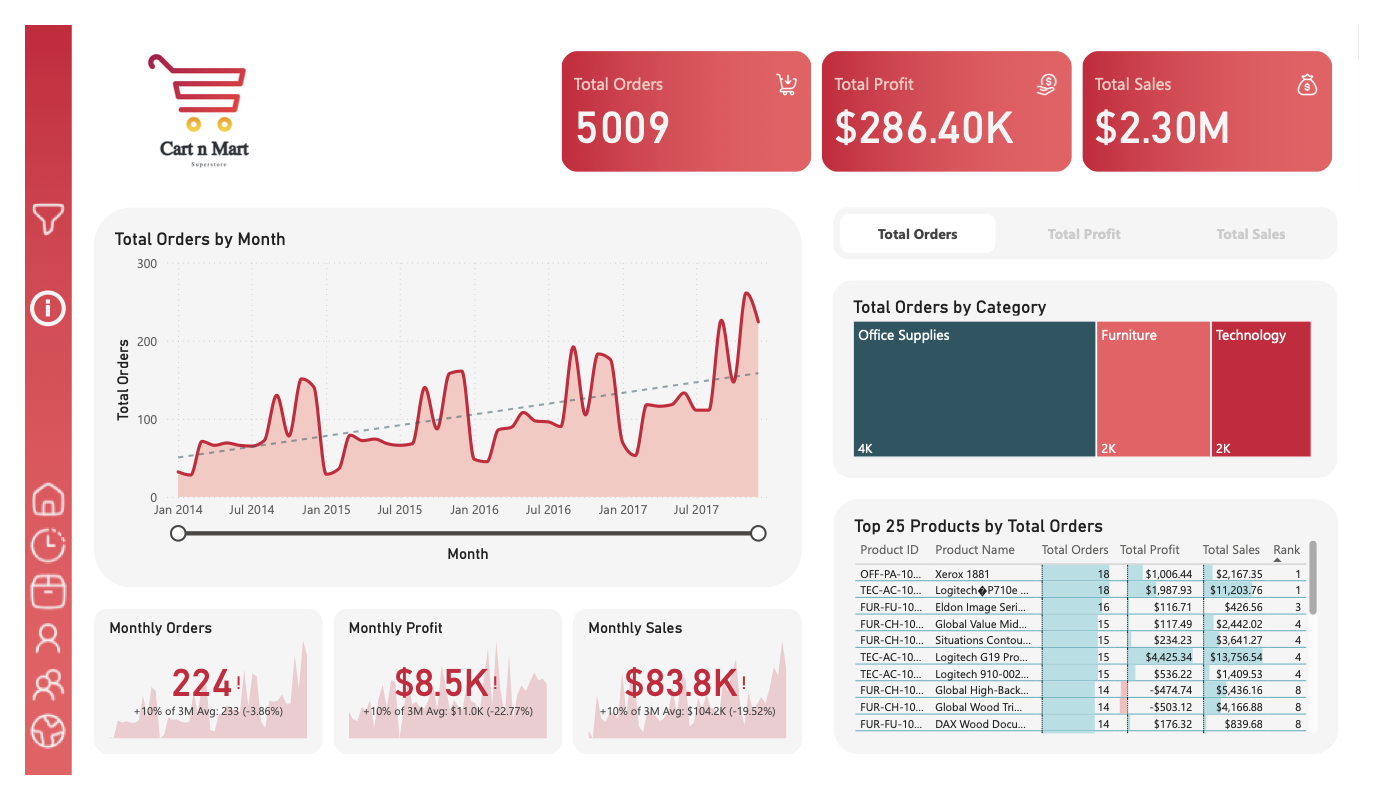

The page's visual inventory and layout, read from the dashboard file:
{"tool":"powerbi","page":{"name":"Overview","canvas":[1280,720],"ordinal":0},"visuals":[{"type":"cardVisual","title":"NavBar","fields":{"Data":["Measures Table.Dummy Title"]},"box":[0,0,45,720],"z":0,"group":"g9"},{"type":"image","box":[65.6,20,214,125],"z":0},{"type":"shape","title":"BG","box":[66,175,680,365],"z":0,"group":"g3"},{"type":"slicer","fields":{"Values":["KPI Measures.KPI Measures"]},"box":[982.4,183.3,11.8,12.4],"z":0,"group":"g2"},{"type":"shape","title":"BG","box":[775.4,245.4,485,190],"z":0,"group":"g4"},{"type":"actionButton","title":"Home Button","box":[0,432.6,44.6,44.6],"z":0,"group":"g1"},{"type":"shape","title":"BG","box":[775.7,455.2,485.2,245.2],"z":0,"group":"g8"},{"type":"shape","title":"BG","box":[66,560,220,140],"z":0,"group":"g5"},{"type":"shape","title":"BG","box":[296,560,220,140],"z":0,"group":"g6"},{"type":"shape","title":"BG","box":[526,560,220,140],"z":0,"group":"g7"},{"type":"cardVisual","title":"KPIs","fields":{"Data":["Measures Table.Total Orders","Measures Table.Total Profit","Measures Table.Total Sales"]},"box":[510,20,750,125.6],"z":1000},{"type":"bookmarkNavigator","title":"Slicer selector","box":[776,175,483.9,50],"z":1000,"group":"g2"},{"type":"areaChart","fields":{"Y":["Measures Table.Total Profit"],"Category":["DimCalendar.Start of month"]},"box":[81,194.6,650,325.9],"z":1000,"group":"g3"},{"type":"treemap","fields":{"Values":["Measures Table.Total Profit"],"Group":["DimProducts.Category Hierarchy.Category","DimProducts.Category Hierarchy.Sub-Category"]},"box":[790,260,450.8,160.3],"z":1000,"group":"g4"},{"type":"group","id":"g1","title":"NavBar Buttons","box":[0,432.6,44.6,267.4],"z":1000,"group":"g9"},{"type":"tableEx","fields":{"Values":["DimProducts.Product ID","DimProducts.Product Name","Measures Table.Total Orders","Measures Table.Total Profit","Measures Table.Total Sales","Measures Table.Product Rank by Selected Measure"]},"box":[790.8,470.3,455,215],"z":1000,"group":"g8"},{"type":"actionButton","title":"Time Button","box":[0,477.2,44.6,44.6],"z":1000,"group":"g1"},{"type":"kpi","title":"Monthly Orders","fields":{"Indicator":["Measures Table.Total Orders"],"TrendLine":["DimCalendar.Start of month"],"Goal":["Measures Table.Monthly Orders Target"]},"box":[76.5,570,199,120],"z":1000,"group":"g5"},{"type":"kpi","title":"Monthly Profit","fields":{"Indicator":["Measures Table.Total Profit"],"TrendLine":["DimCalendar.Start of month"],"Goal":["Measures Table.Monthly Profit Target"]},"box":[306.2,570,199.5,120],"z":1000,"group":"g6"},{"type":"kpi","title":"Monthly Sales","fields":{"TrendLine":["DimCalendar.Start of month"],"Indicator":["Measures Table.Total Sales"],"Goal":["Measures Table.Monthly Sales Target"]},"box":[536.2,570,199.5,120],"z":1000,"group":"g7"},{"type":"actionButton","title":"Filter Button","box":[0,164.1,44.6,44.6],"z":2000,"group":"g9"},{"type":"group","id":"g2","title":"Slicer","box":[776,175,483.9,50],"z":2000},{"type":"actionButton","title":"Products Button","box":[0,521.7,44.6,44.6],"z":2000,"group":"g1"},{"type":"group","id":"g3","title":"Selected Measure by Month with BG","box":[66,175,680,365],"z":3000},{"type":"actionButton","title":"Customers Button","box":[0,566.3,44.6,44.6],"z":3000,"group":"g1"},{"type":"group","id":"g4","title":"Selected Measure by Category with BG","box":[775.4,245.4,485,190],"z":4000},{"type":"actionButton","title":"Customers RFM Button","box":[0,610.9,44.6,44.6],"z":4000,"group":"g1"},{"type":"group","id":"g5","title":"Monthly Order with BG","box":[66,560,220,140],"z":5000},{"type":"actionButton","title":"Territory Button","box":[0,655.4,44.6,44.6],"z":5000,"group":"g1"},{"type":"group","id":"g6","title":"Monthly Profit with BG","box":[296,560,220,140],"z":6000},{"type":"group","id":"g7","title":"Monthly Sales with BG","box":[526,560,220,140],"z":7000},{"type":"group","id":"g8","title":"Top 10 Products by Selected Measure with BG","box":[775.7,455.2,485.2,245.2],"z":8000},{"type":"group","id":"g9","title":"Navbar home","box":[0,0,45,720],"z":9000},{"type":"actionButton","title":"Slicers warning","box":[0,250,44,44],"z":9500}]}

Visuals, with their boxes in screenshot pixels (x1, y1, x2, y2), scaled from the page's 1280x720 canvas onto the 1383x800 screenshot:
"NavBar" cardVisual: [0, 0, 49, 799]
image: [71, 22, 302, 161]
"BG" shape: [71, 194, 806, 600]
slicer - KPI Measures.KPI Measures: [1061, 204, 1074, 217]
"BG" shape: [838, 273, 1362, 484]
"Home Button" actionButton: [0, 481, 48, 530]
"BG" shape: [838, 506, 1362, 778]
"BG" shape: [71, 622, 309, 778]
"BG" shape: [320, 622, 558, 778]
"BG" shape: [568, 622, 806, 778]
"KPIs" cardVisual: [551, 22, 1361, 162]
"Slicer selector" bookmarkNavigator: [838, 194, 1361, 250]
areaChart - Measures Table.Total Profit x DimCalendar.Start of month: [88, 216, 790, 578]
treemap - Measures Table.Total Profit x DimProducts.Category Hierarchy.Category: [854, 289, 1341, 467]
"NavBar Buttons" group: [0, 481, 48, 778]
tableEx - DimProducts.Product ID x DimProducts.Product Name: [854, 523, 1346, 761]
"Time Button" actionButton: [0, 530, 48, 580]
"Monthly Orders" kpi: [83, 633, 298, 767]
"Monthly Profit" kpi: [331, 633, 546, 767]
"Monthly Sales" kpi: [579, 633, 795, 767]
"Filter Button" actionButton: [0, 182, 48, 232]
"Slicer" group: [838, 194, 1361, 250]
"Products Button" actionButton: [0, 580, 48, 629]
"Selected Measure by Month with BG" group: [71, 194, 806, 600]
"Customers Button" actionButton: [0, 629, 48, 679]
"Selected Measure by Category with BG" group: [838, 273, 1362, 484]
"Customers RFM Button" actionButton: [0, 679, 48, 728]
"Monthly Order with BG" group: [71, 622, 309, 778]
"Territory Button" actionButton: [0, 728, 48, 778]
"Monthly Profit with BG" group: [320, 622, 558, 778]
"Monthly Sales with BG" group: [568, 622, 806, 778]
"Top 10 Products by Selected Measure with BG" group: [838, 506, 1362, 778]
"Navbar home" group: [0, 0, 49, 799]
"Slicers warning" actionButton: [0, 278, 48, 327]
